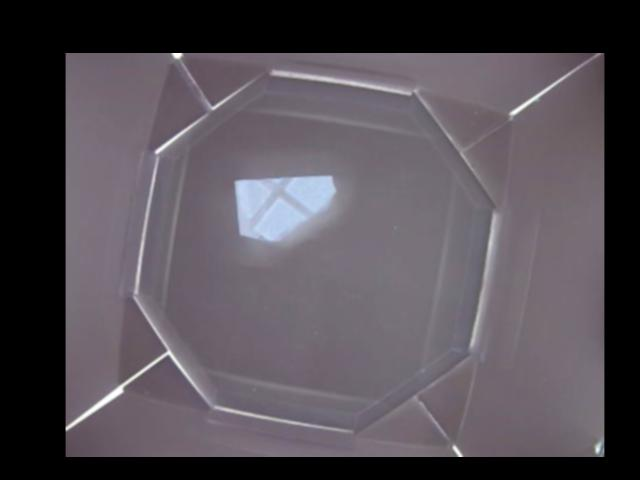China: (233, 178, 334, 239)
